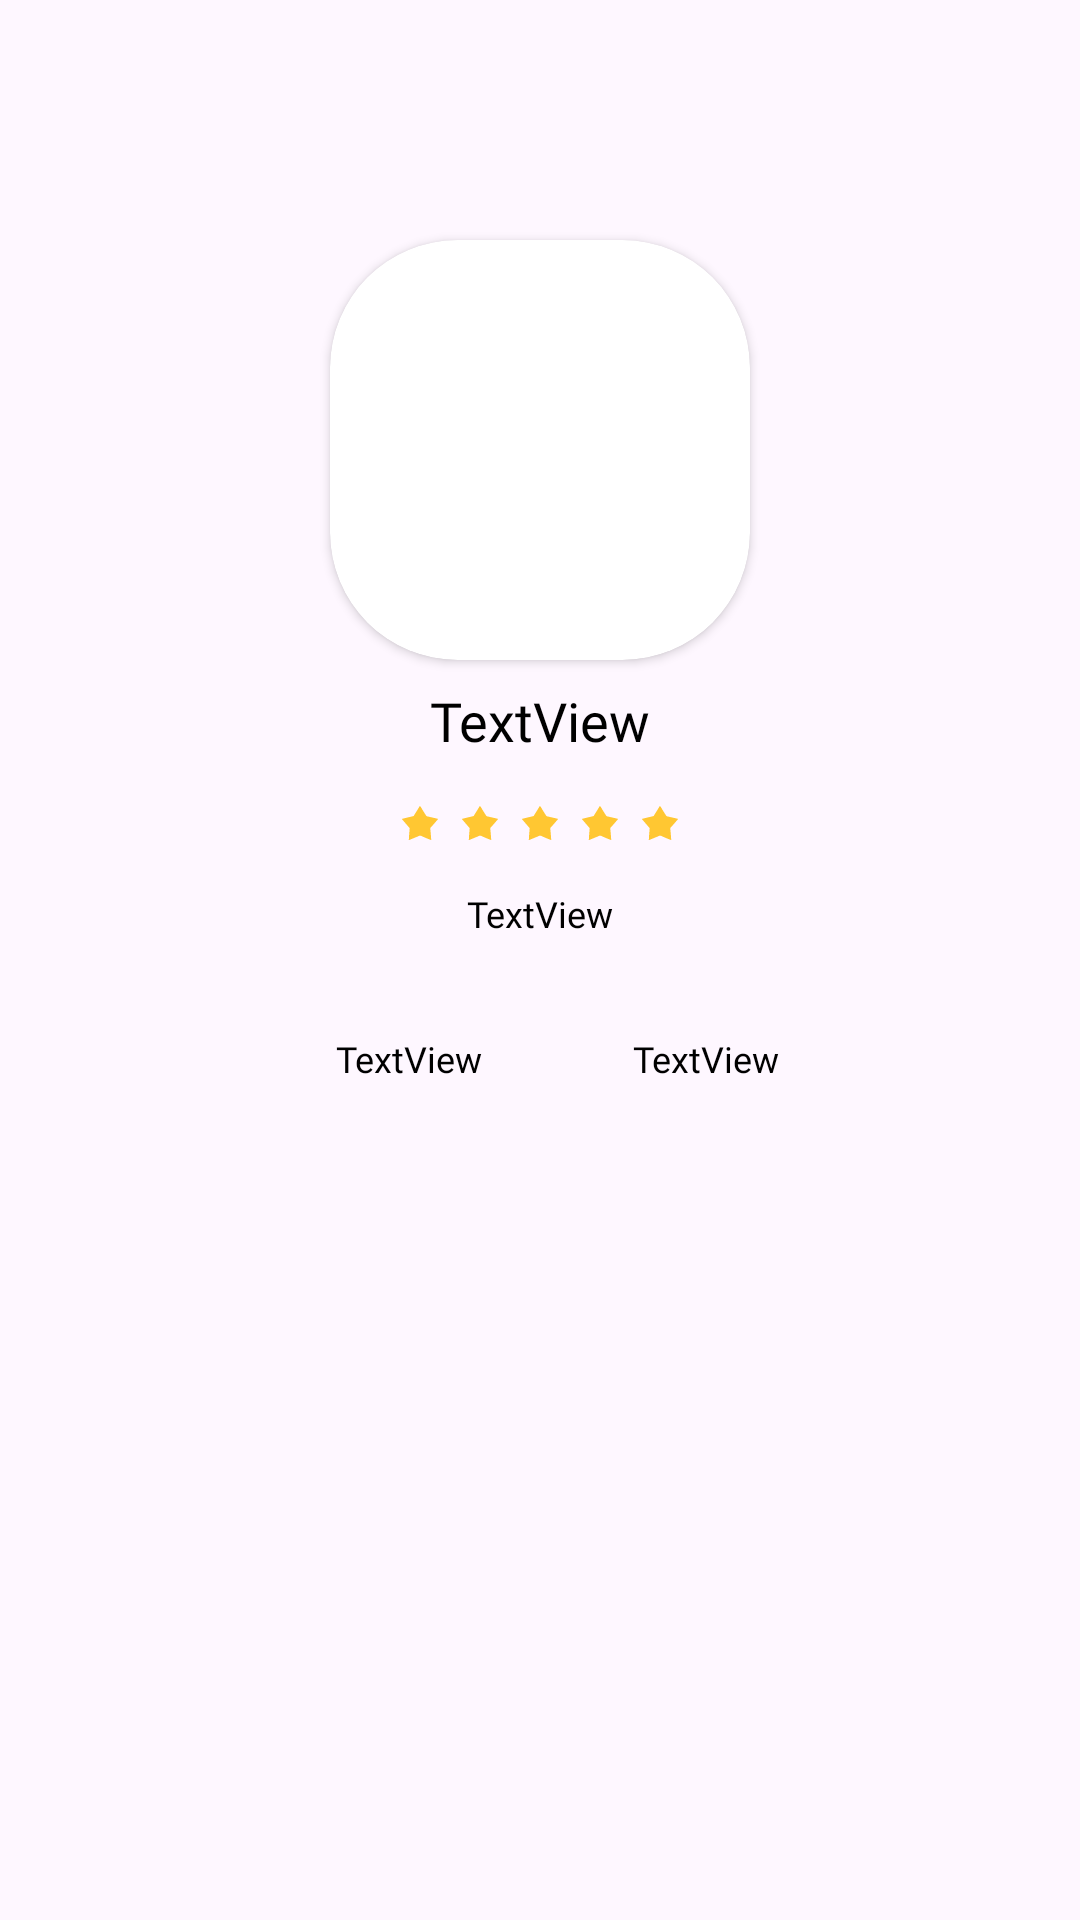

Screen size 1080x1920. Icon name, then its center in pixels as (x,y):
yellowstar: (420,823), (480,823), (540,823), (600,823), (660,823)
